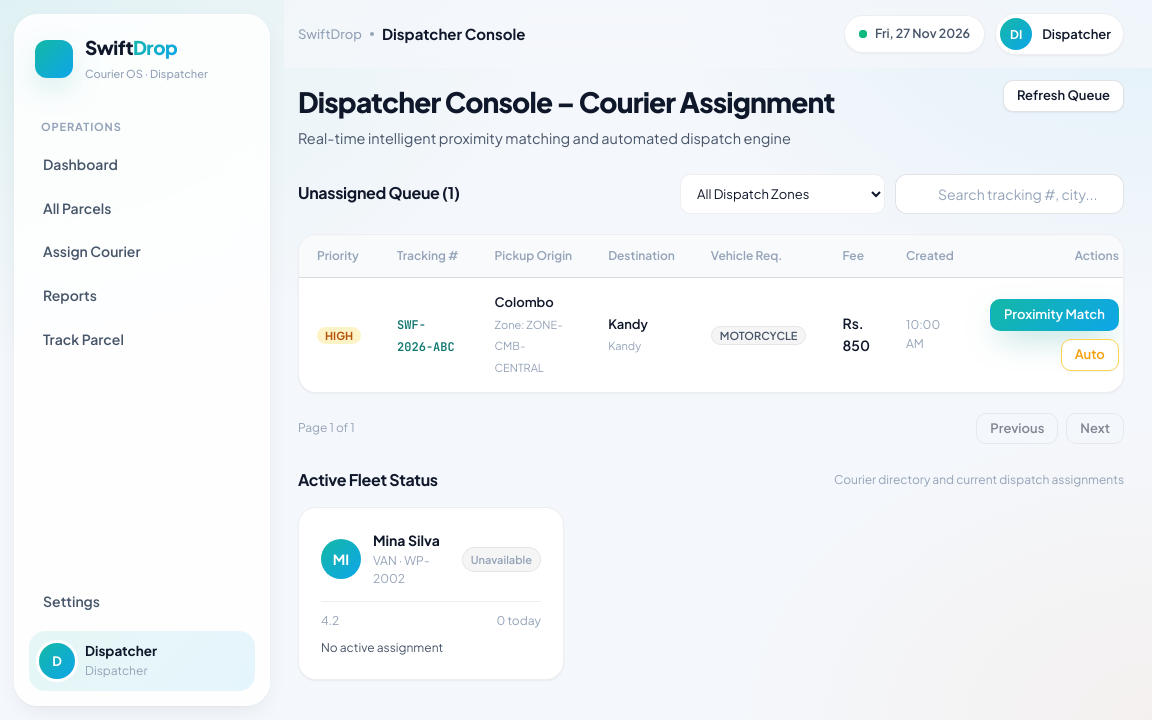
Test: AssignCourier fleet › does not offer an unavailable courier
Later steps or results of the test are not shown.
Click the button "Proximity Match" at (1054, 315), box [990,300,1119,331]
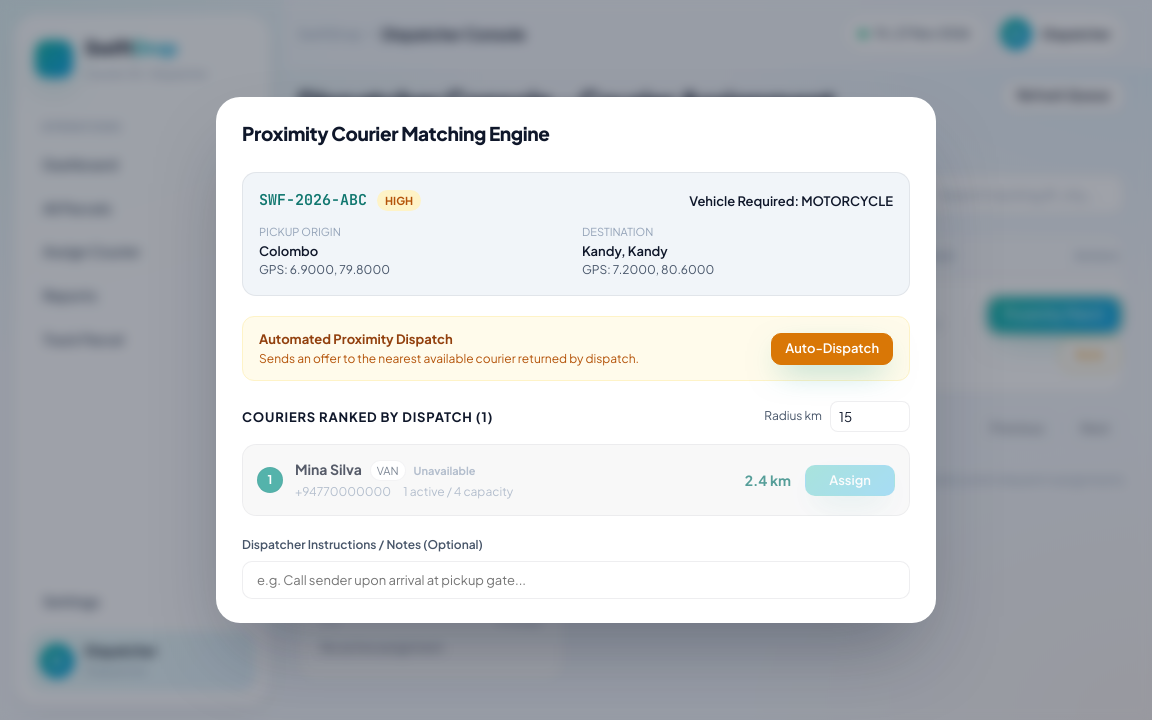
Expected: the button "Assign" is disabled, [805,464,895,496]
